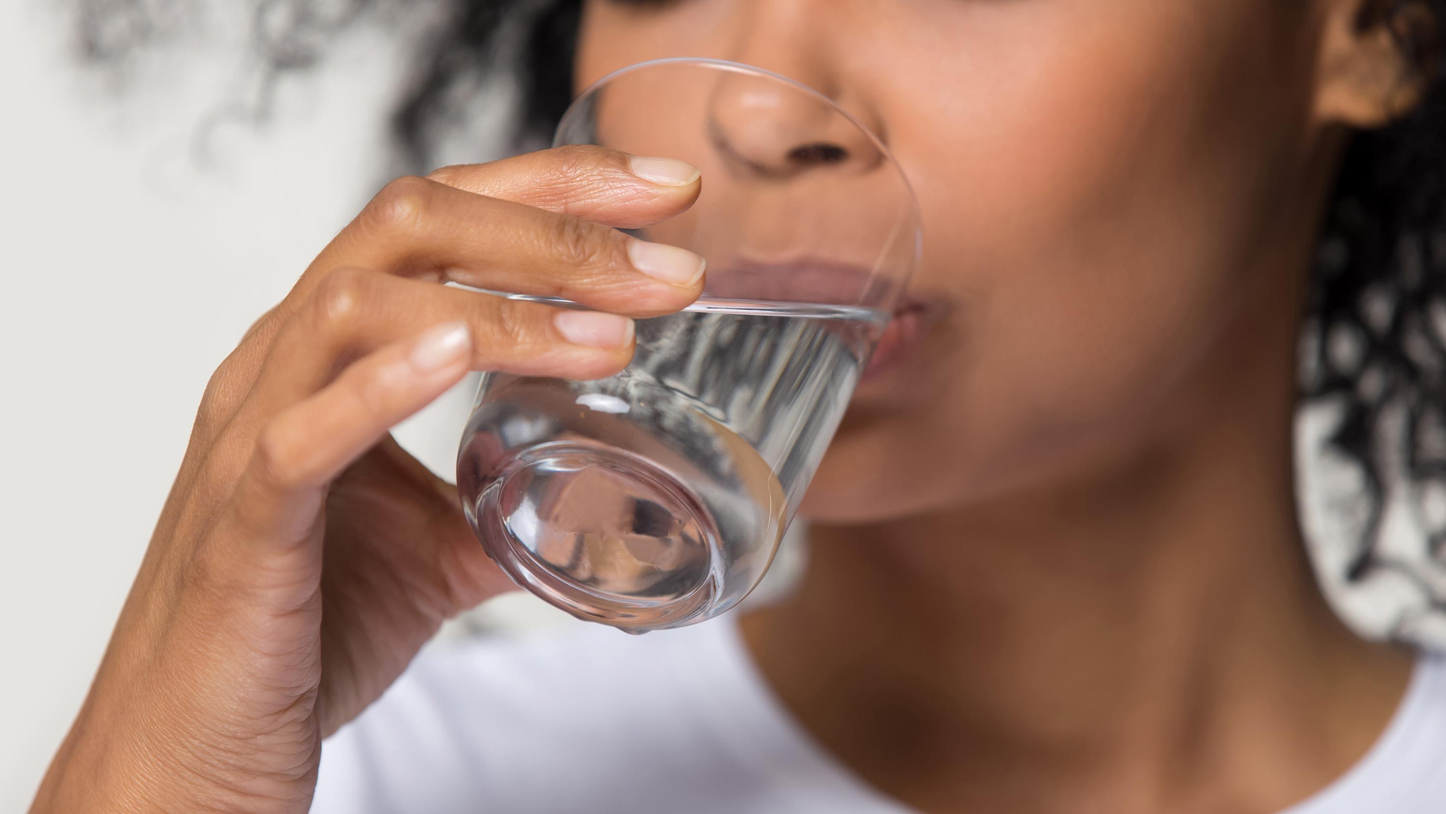glass-normal: (433, 55, 924, 632)
